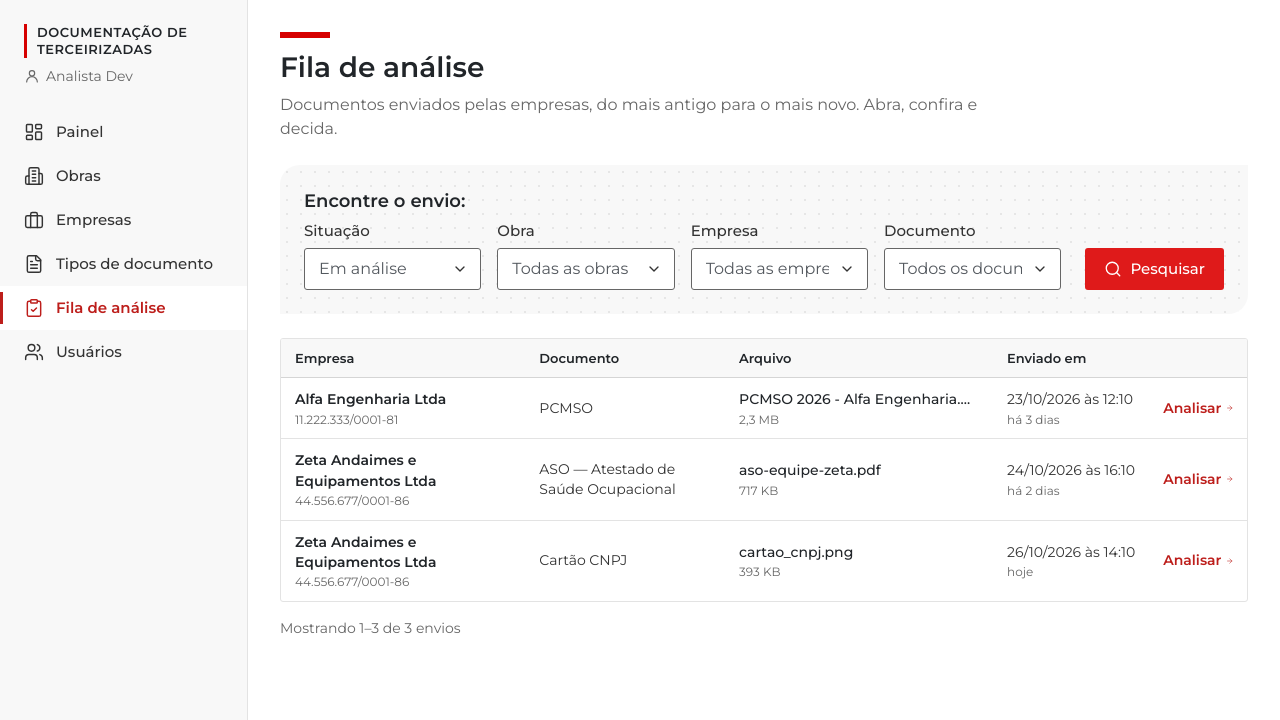
Test case: Fila de análise › aplica o filtro por empresa
The width and height of the screenshot is (1280, 720).
Expected: the table named "Envios aguardando análise" is shown, x1=281 y1=338 x2=1247 y2=601
Select "Zeta Andaimes e Equipamentos Ltda" in the dropdown labelled "Empresa" at point(779, 268), box x1=691 y1=248 x2=868 y2=290
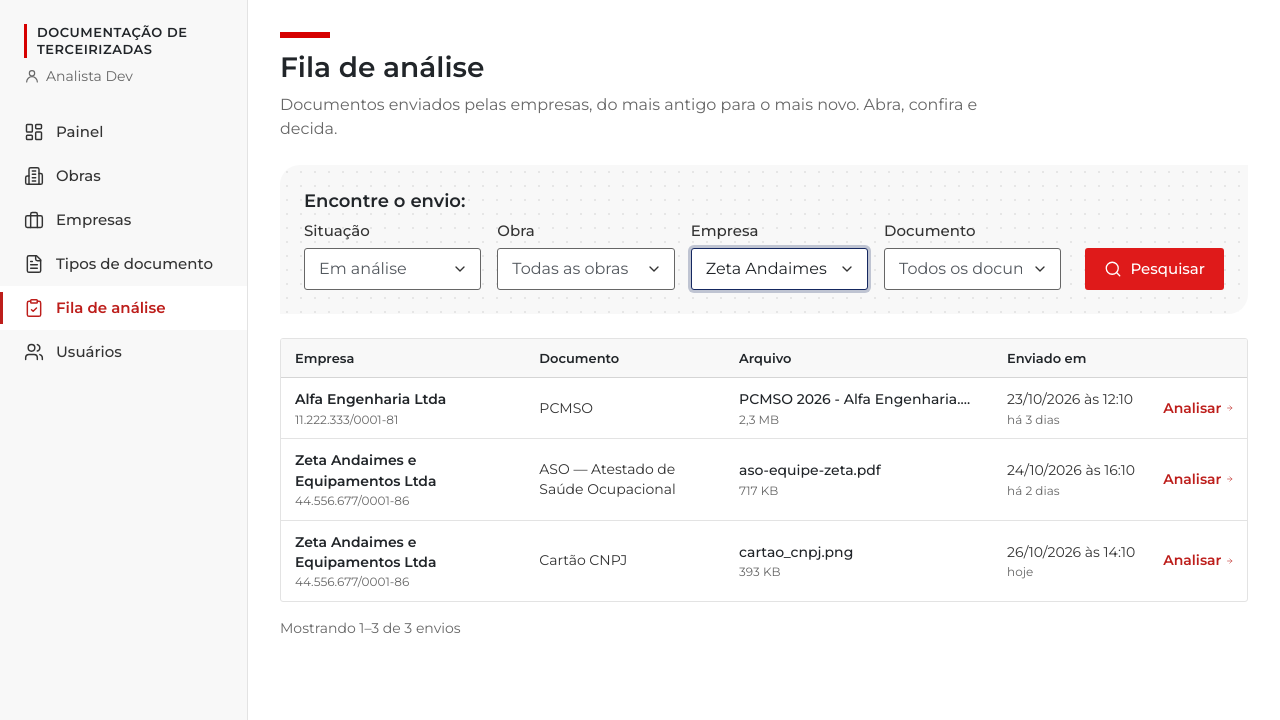
Click the button "Pesquisar" at point(1155, 268), box x1=1085 y1=248 x2=1224 y2=290
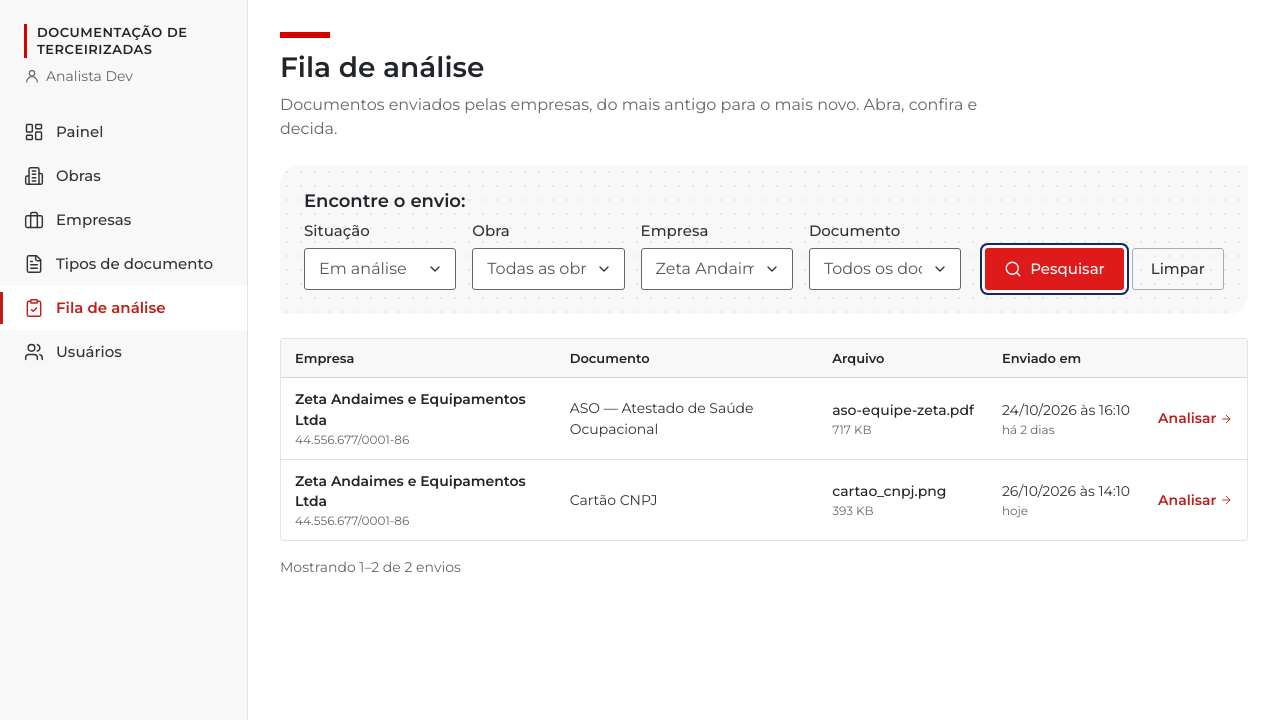
Result: the text "PCMSO" is gone
Result: the number of rows is 3 at x1=281 y1=338 x2=1247 y2=378; x1=281 y1=378 x2=1247 y2=459; x1=281 y1=459 x2=1247 y2=540
Result: the text "Zeta Andaimes e Equipamentos Ltda" is shown 2 times at x1=295 y1=390 x2=526 y2=429; x1=295 y1=472 x2=526 y2=510
